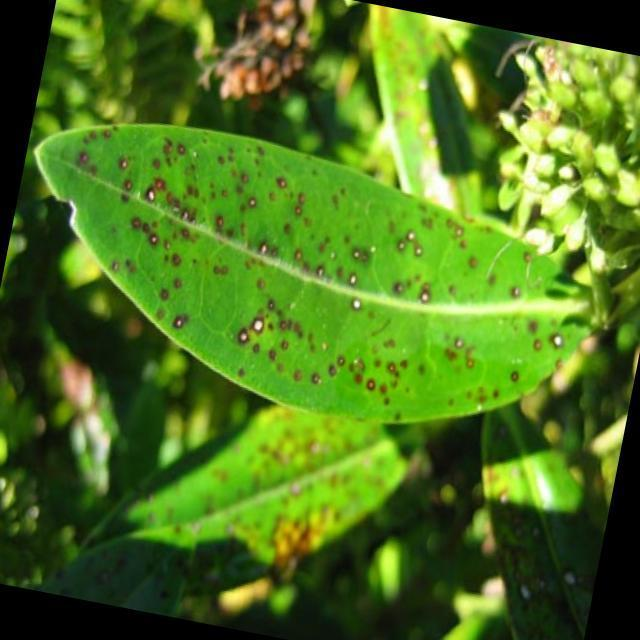Septoria: (25, 115, 602, 438)
